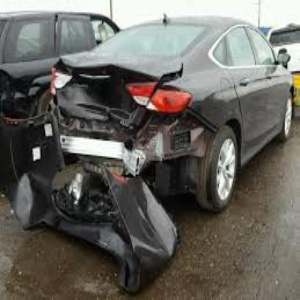bumper: (66, 166, 188, 267)
tail_lights: (125, 80, 196, 117)
